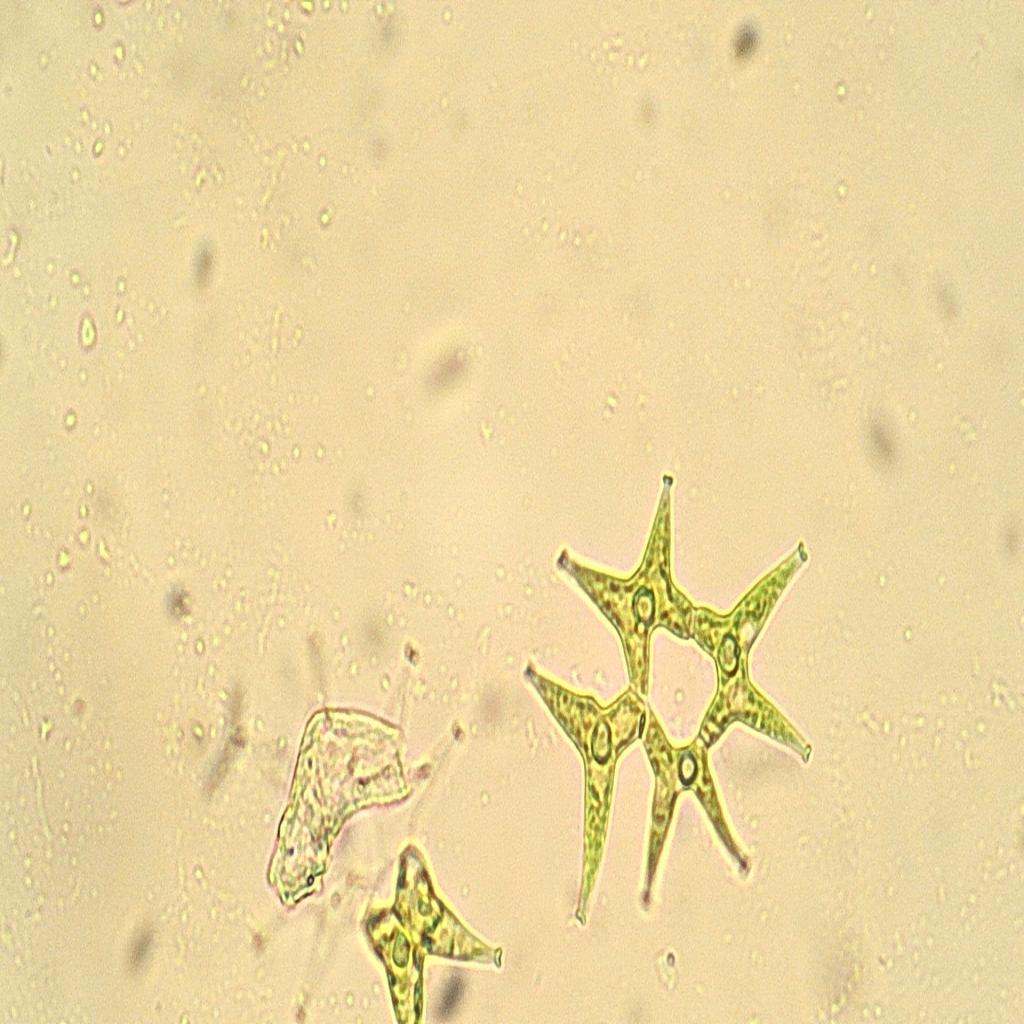Pediastrum_CT: (486, 446, 858, 952)
